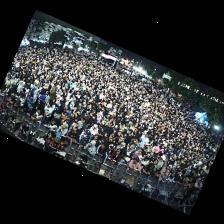person: (96, 144, 108, 168), (109, 149, 120, 167), (140, 163, 155, 176), (66, 127, 78, 142), (42, 102, 51, 122), (127, 157, 139, 171), (45, 118, 59, 130), (60, 115, 71, 130), (83, 141, 95, 154), (29, 110, 42, 121), (56, 122, 67, 135), (52, 101, 60, 118), (107, 138, 116, 153), (78, 135, 89, 147), (72, 121, 81, 135), (124, 144, 133, 157), (139, 156, 148, 169), (89, 124, 97, 138), (36, 89, 44, 103), (98, 133, 108, 144), (78, 129, 88, 140), (80, 111, 89, 123), (154, 157, 163, 169), (87, 115, 96, 127), (144, 151, 154, 161), (90, 135, 99, 146), (166, 172, 175, 183), (26, 92, 32, 108), (156, 173, 166, 182), (173, 175, 183, 184), (119, 157, 129, 166), (7, 93, 15, 104), (159, 165, 170, 173), (26, 106, 35, 115), (154, 144, 163, 153), (20, 102, 28, 112), (43, 91, 49, 103), (19, 93, 24, 107), (80, 119, 86, 130), (2, 91, 9, 100), (115, 142, 124, 149), (135, 149, 142, 158), (182, 178, 187, 188), (32, 91, 36, 103), (0, 88, 6, 96), (169, 168, 178, 172)
